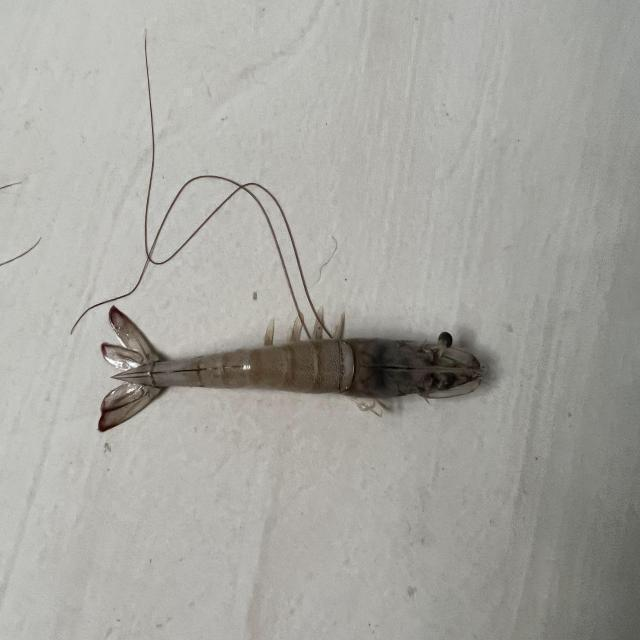shrimp: (98, 306, 483, 430)
